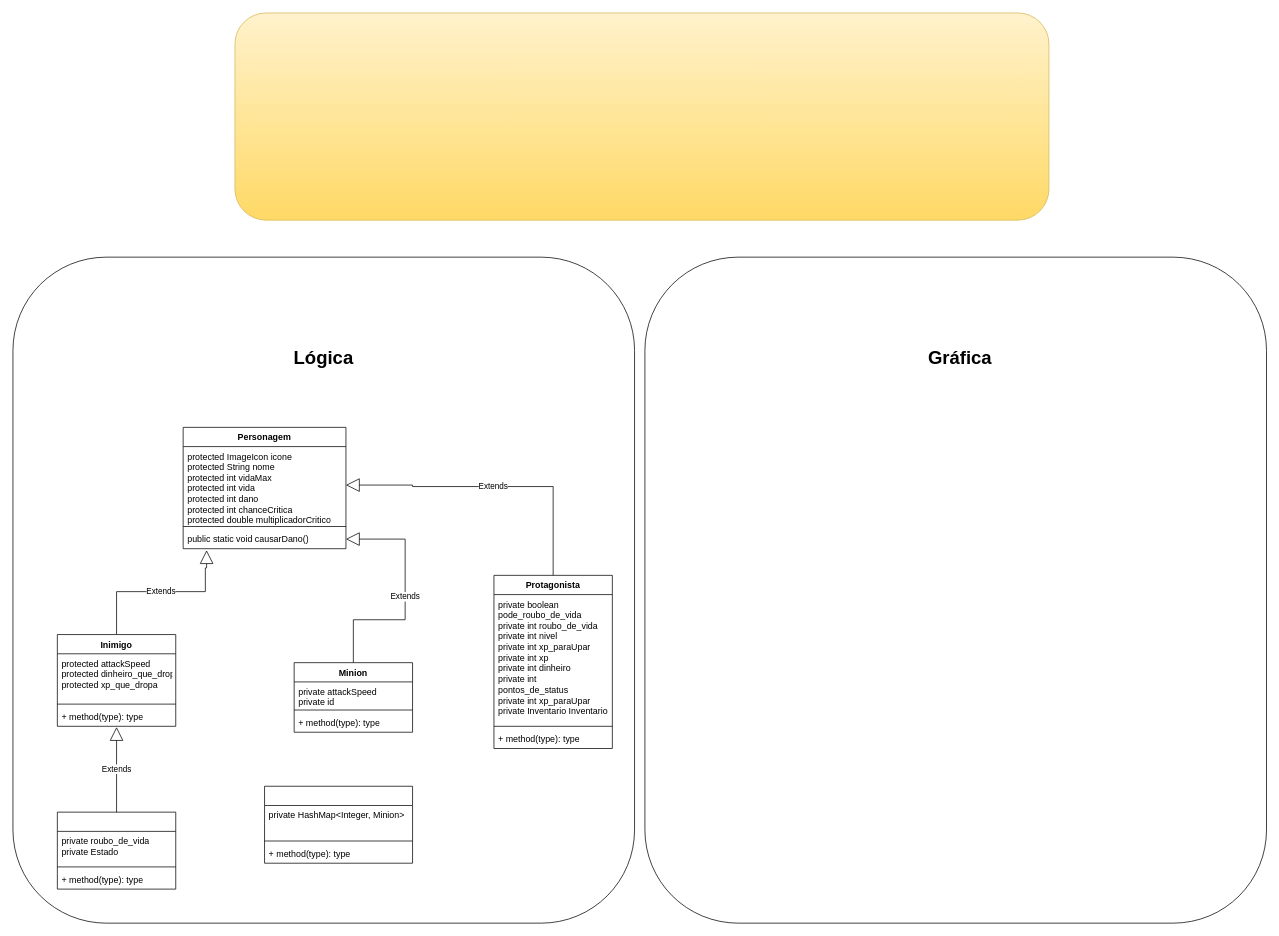
This 1279x936 diagram has some shape labels left out. The shapes that lost their labels are listed below. From the top down, each one's box as (x1, y1, x2, y2) in pixels, then its label:
(234, 12, 1049, 220): Glória a Deus!
(264, 786, 413, 863): Inventario
(57, 811, 176, 889): Chefe1
